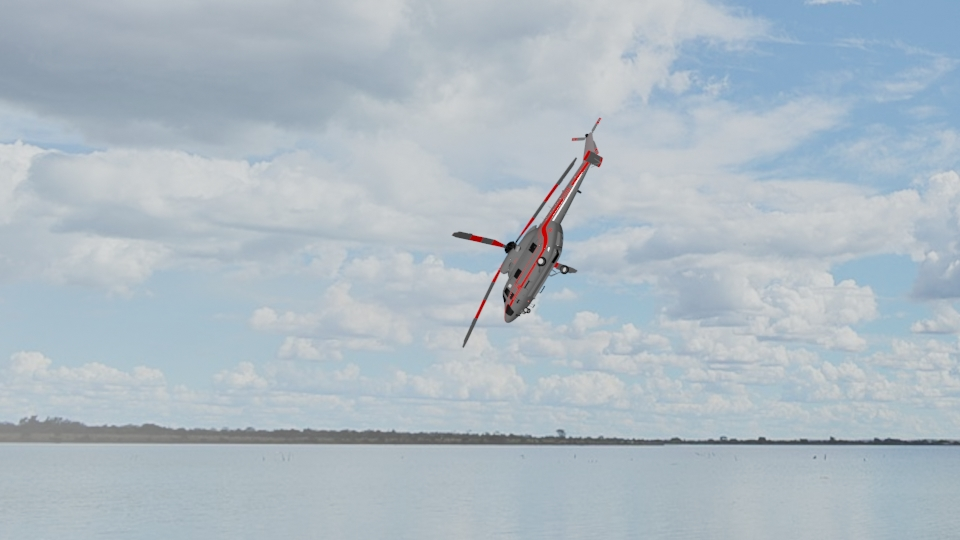heli: (451, 115, 606, 323)
